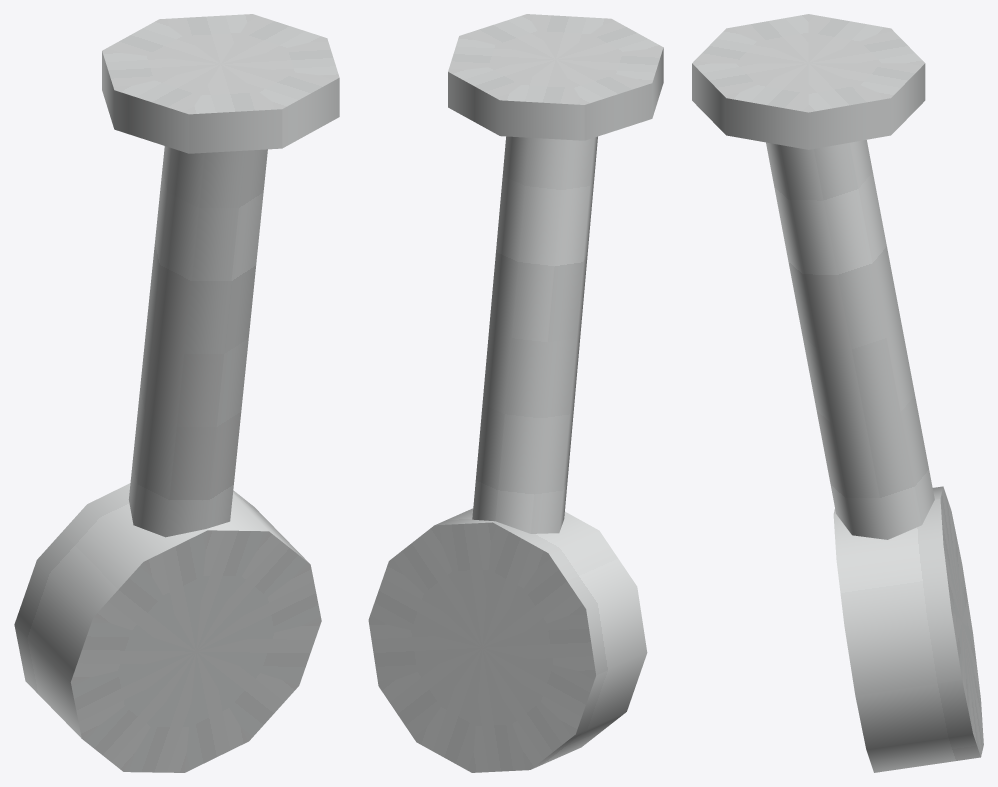
File: trusssignalarm_stub_114.obj
3 renders of one model, left to right at view 1: azimuth 30°, elevation 25°; view 2: azimuth 150°, elevation 25°; view 3: azimuth 270°, elevation 25°, orthographic. The views are drawn at different scales.
Visible parts, largest first — view 1: trusssignalarm_stub_114; view 2: trusssignalarm_stub_114; view 3: trusssignalarm_stub_114.
Part boxes in pixels (<box>): trusssignalarm_stub_114: <box>14,14,339,772</box>; trusssignalarm_stub_114: <box>368,14,663,772</box>; trusssignalarm_stub_114: <box>692,14,983,772</box>.
Size of the model in its own units: 0.4125 by 1.15 by 0.438.
